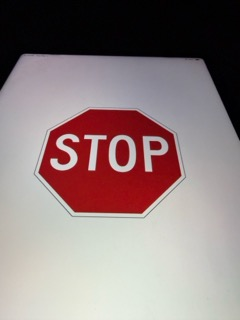STOP: (34, 106, 188, 219)
